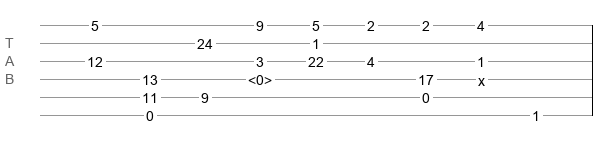0: (146, 108, 154, 118), (422, 90, 430, 100)
1: (312, 36, 320, 46), (477, 54, 485, 64), (532, 108, 540, 118)
11: (142, 90, 158, 100)
12: (87, 54, 103, 64)
13: (142, 72, 158, 82)
17: (418, 72, 434, 82)
2: (367, 18, 375, 28), (422, 18, 430, 28)
22: (308, 54, 324, 64)
24: (197, 36, 213, 46)
3: (256, 54, 264, 64)
4: (367, 54, 375, 64), (477, 18, 485, 28)
5: (91, 18, 99, 28), (312, 18, 320, 28)
9: (201, 90, 209, 100), (256, 18, 264, 28)
harmonic: (248, 72, 272, 82)
x: (478, 73, 485, 81)
